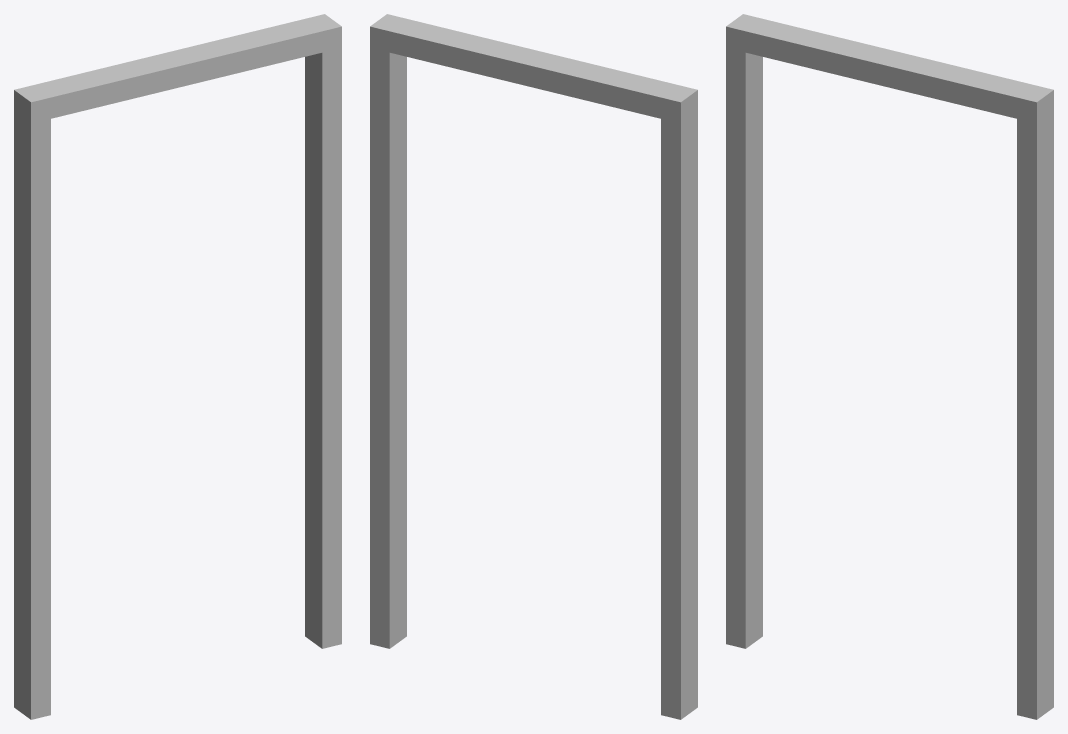
Rendered from door_frame 1.FBX.
The picture shows the model from 3 angles, left to right: view 1: azimuth 30°, elevation 25°; view 2: azimuth 150°, elevation 25°; view 3: azimuth 330°, elevation 25°; orthographic projection.
Parts seen in each view (by area): view 1: Box109; view 2: Box109; view 3: Box109.
Boxes of the visible parts, x1,y1,x2,y2 form: Box109: (14, 14, 341, 719); Box109: (370, 14, 697, 719); Box109: (726, 14, 1053, 719).
Bounding box in the file's own units: 62.84 × 119 × 6.
